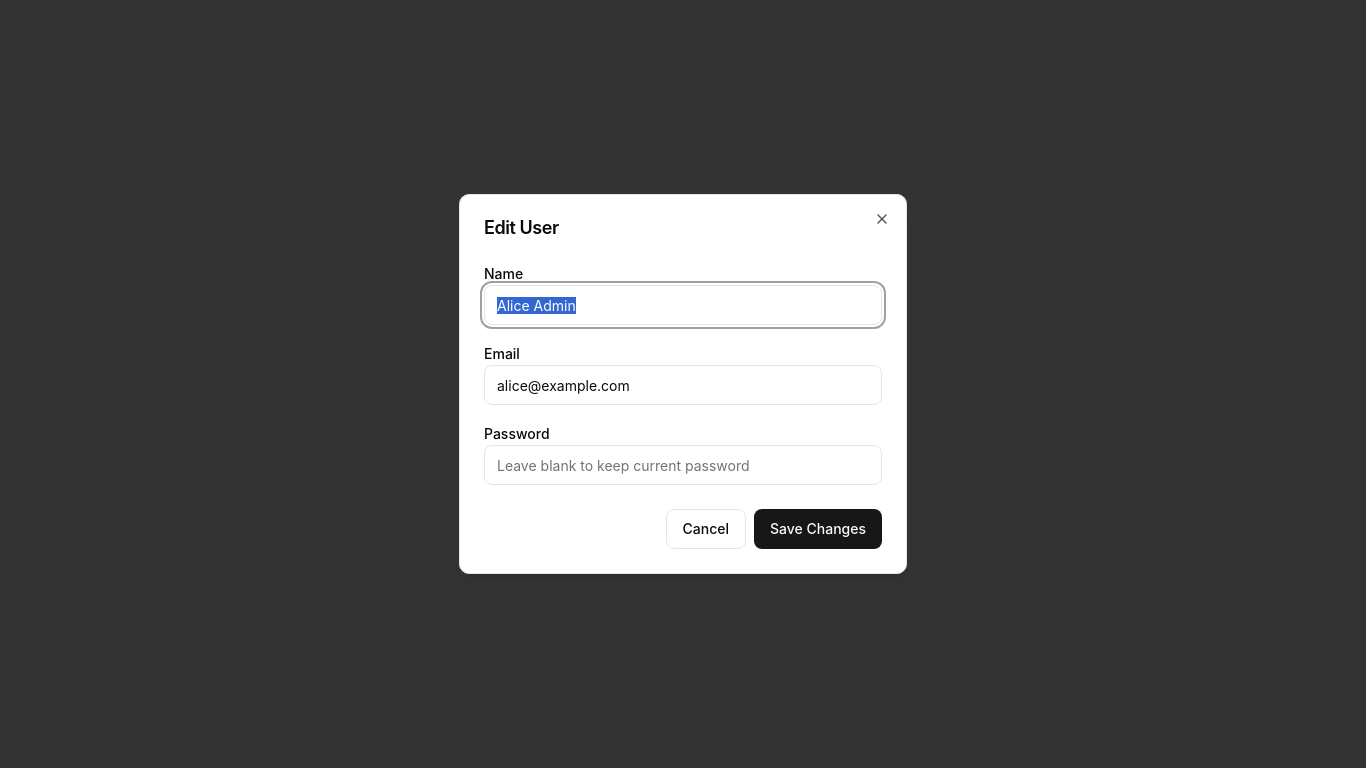
EditUserModal form › shows a validation error when name is too short
The width and height of the screenshot is (1366, 768).
Replace the text in the field labelled "Name" with "ab" at (683, 305), box [484, 285, 882, 325]
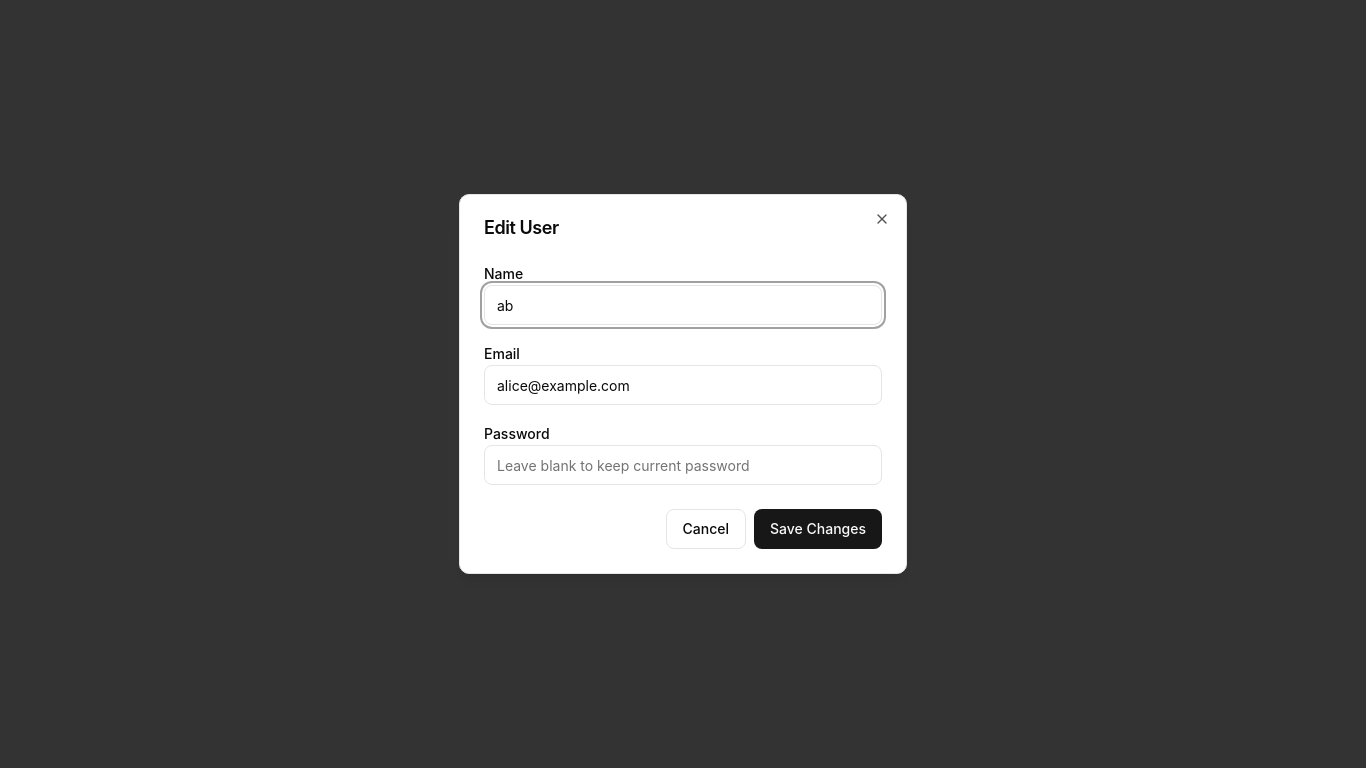
Click the button "Save Changes".
click(818, 529)  # box [754, 509, 882, 549]
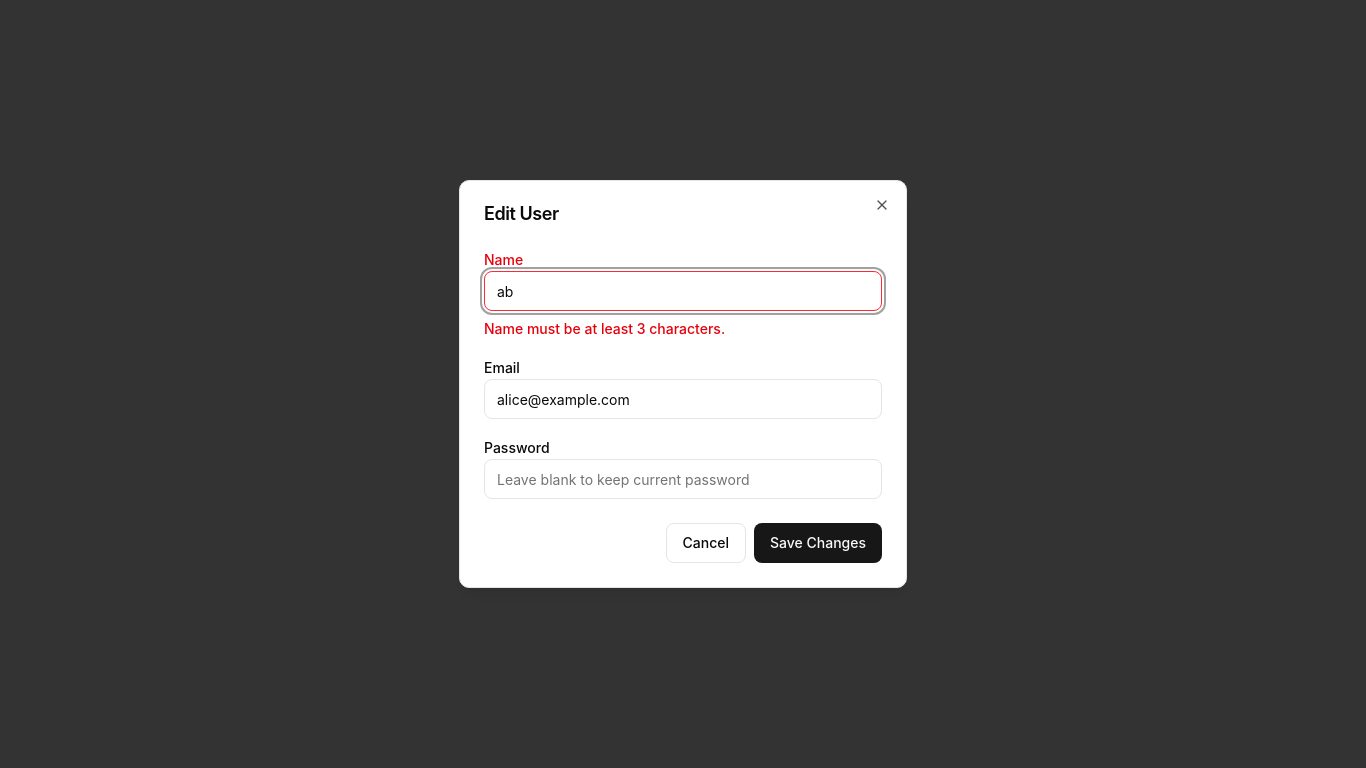
Expected: the text "Name must be at least 3 characters." is shown, [484, 320, 725, 337]
